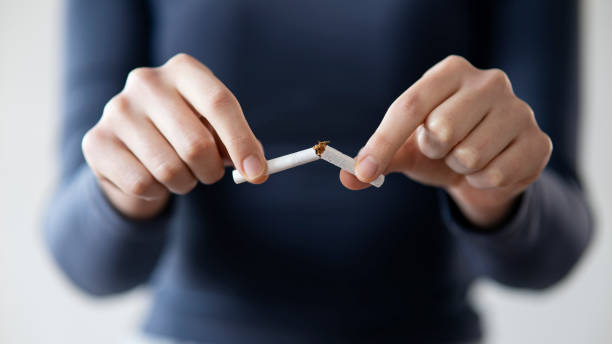cigarette: (231, 143, 322, 185), (319, 145, 386, 189)
